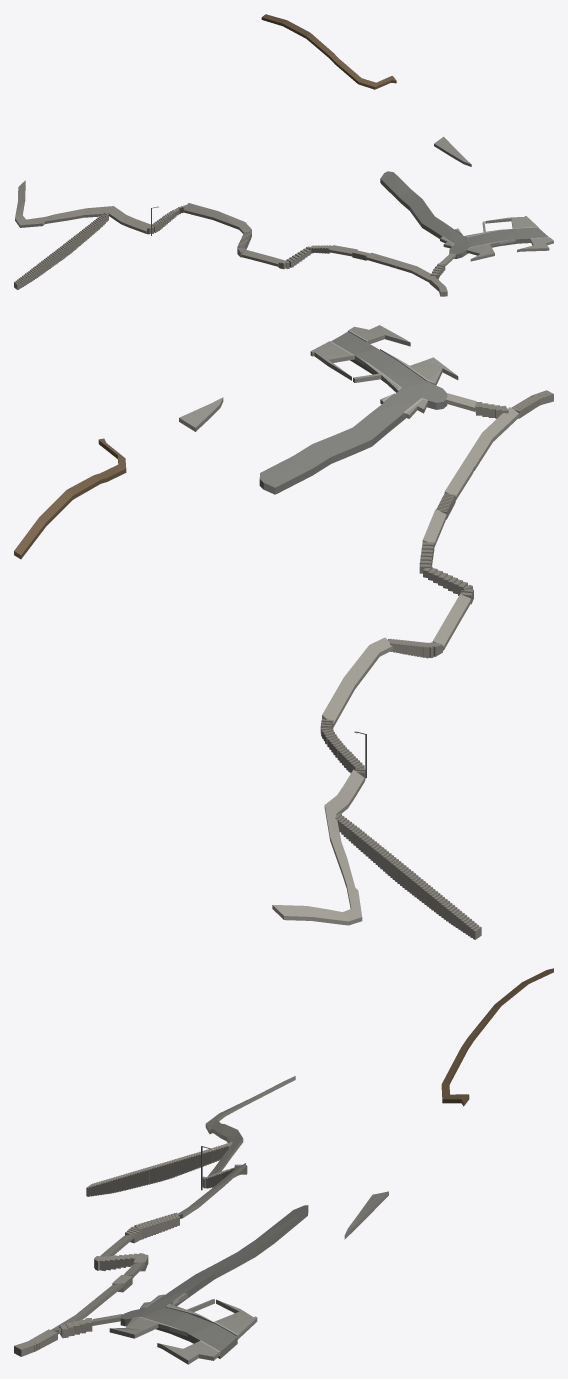
The picture shows the model from 3 angles, top to bottom: view 1: azimuth 30°, elevation 25°; view 2: azimuth 150°, elevation 25°; view 3: azimuth 330°, elevation 25°; orthographic projection. The views are drawn at different scales.
Size of the model in its own units: 87.43 by 54.58 by 146.
